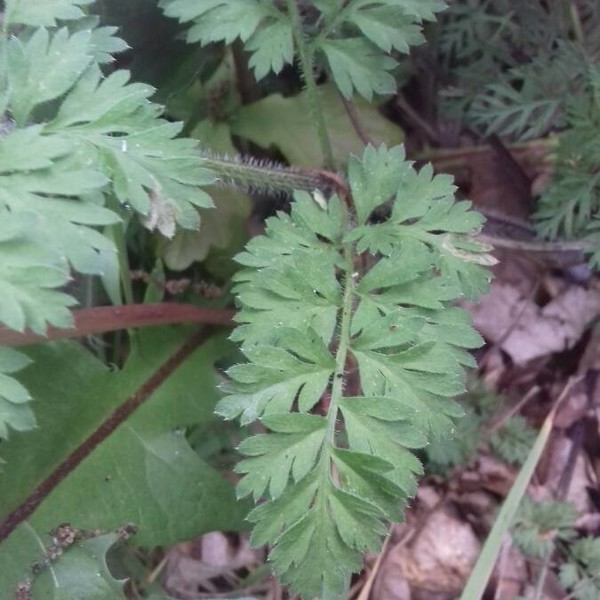obstacle: (233, 154, 507, 569), (17, 23, 217, 432)
